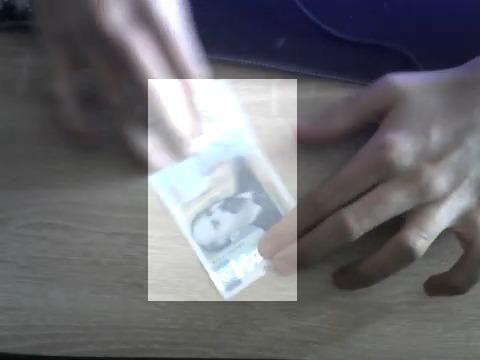20leva: (148, 79, 297, 301)
